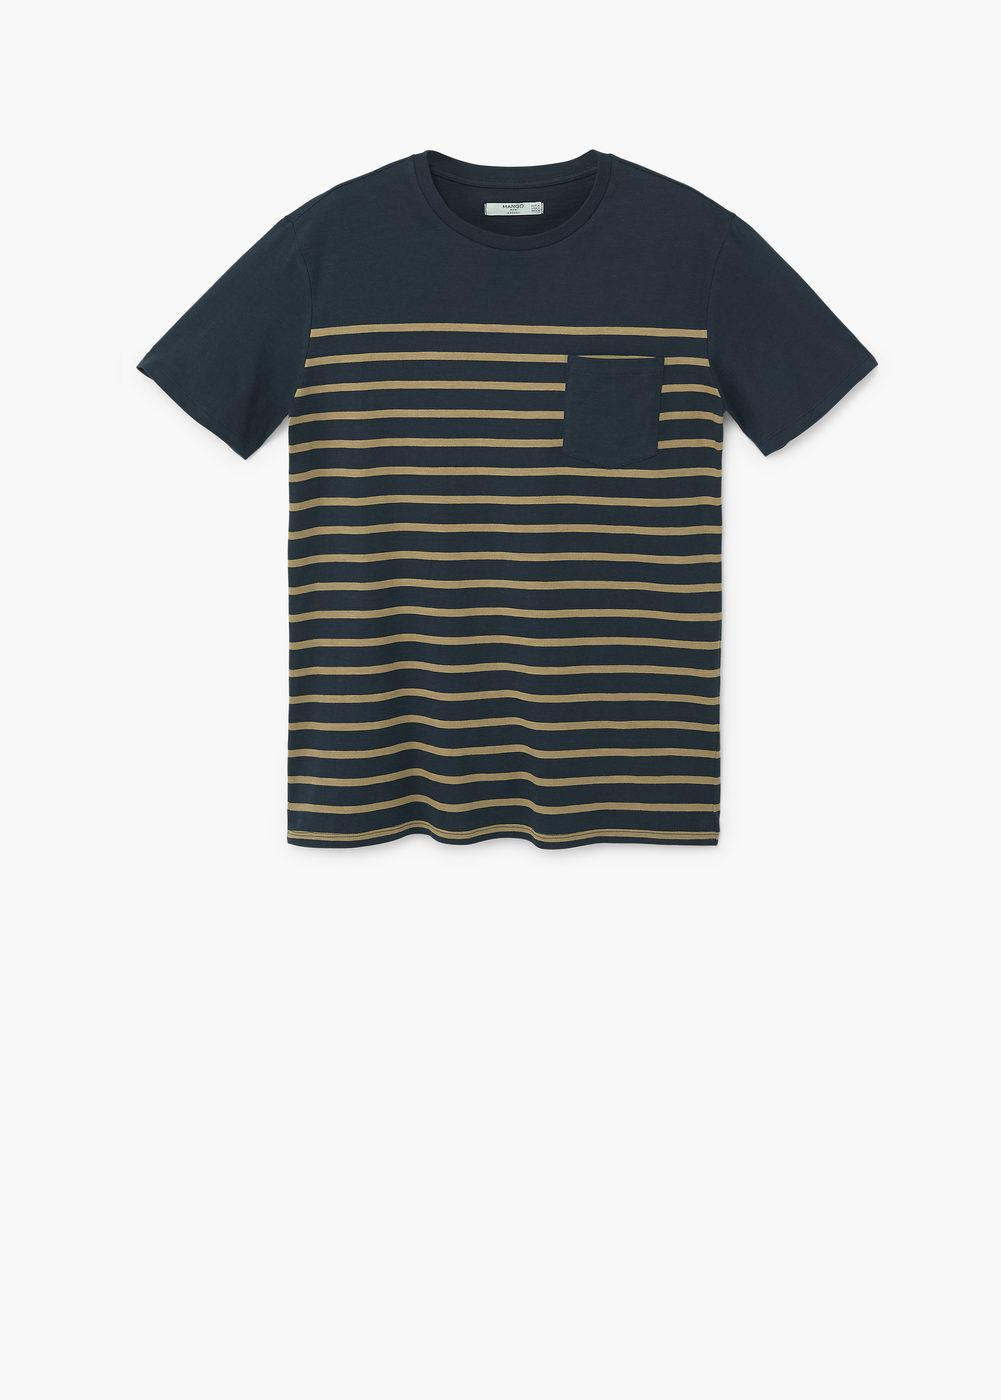teeshirt: (135, 123, 910, 935)
